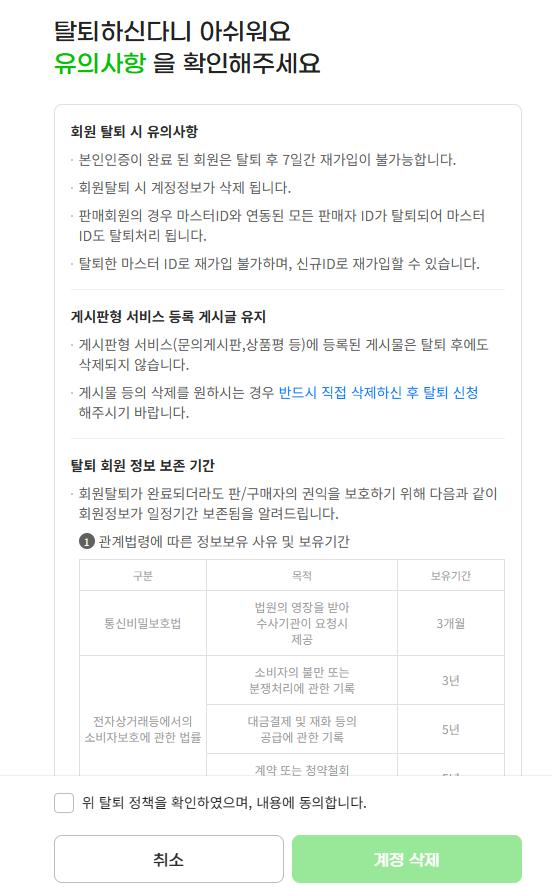button: (293, 835, 520, 882), (54, 835, 280, 881)
checkbox: (43, 794, 376, 815)
